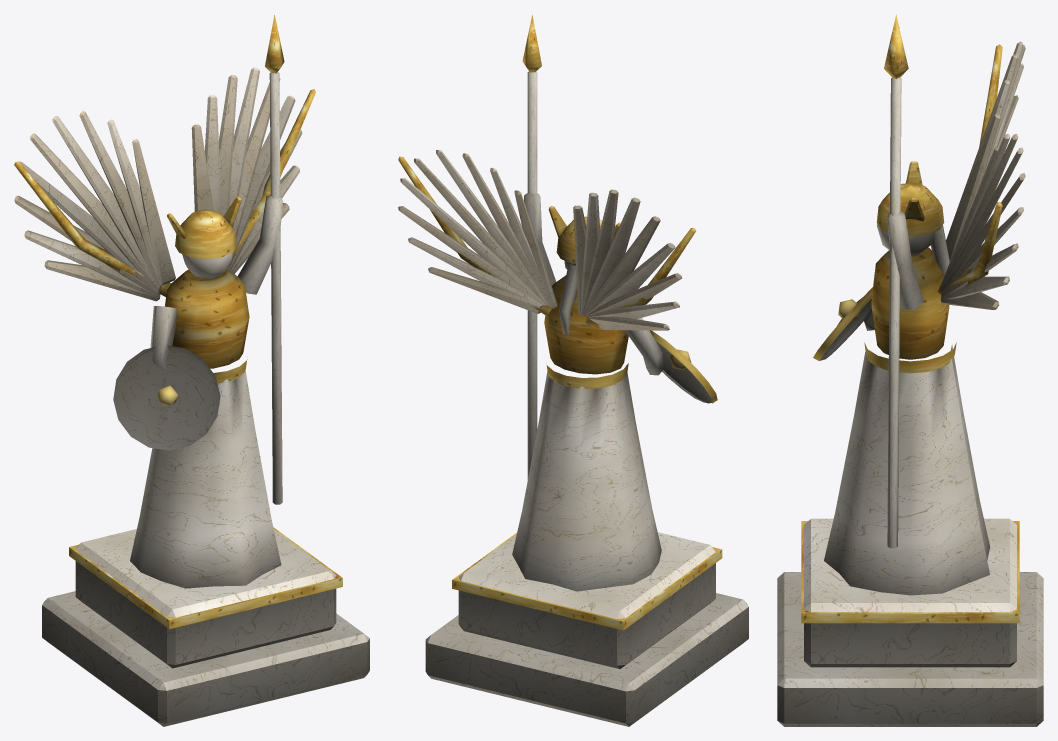
Rendered from bifrost_valkyrie_statue.glb.
The picture shows the model from 3 angles, left to right: view 1: azimuth 30°, elevation 25°; view 2: azimuth 150°, elevation 25°; view 3: azimuth 270°, elevation 25°; orthographic projection. The views are drawn at different scales.
Parts seen in each view (by area): view 1: bifrost_valkyrie_statue; view 2: bifrost_valkyrie_statue; view 3: bifrost_valkyrie_statue.
Boxes of the visible parts, left/top/right/bottom form: bifrost_valkyrie_statue: left=14, top=15, right=369, bottom=726; bifrost_valkyrie_statue: left=398, top=15, right=748, bottom=726; bifrost_valkyrie_statue: left=777, top=14, right=1043, bottom=726.
Bounding box in the file's own units: 2.13 × 4.3 × 1.5.
2 materials, 2 textured.
